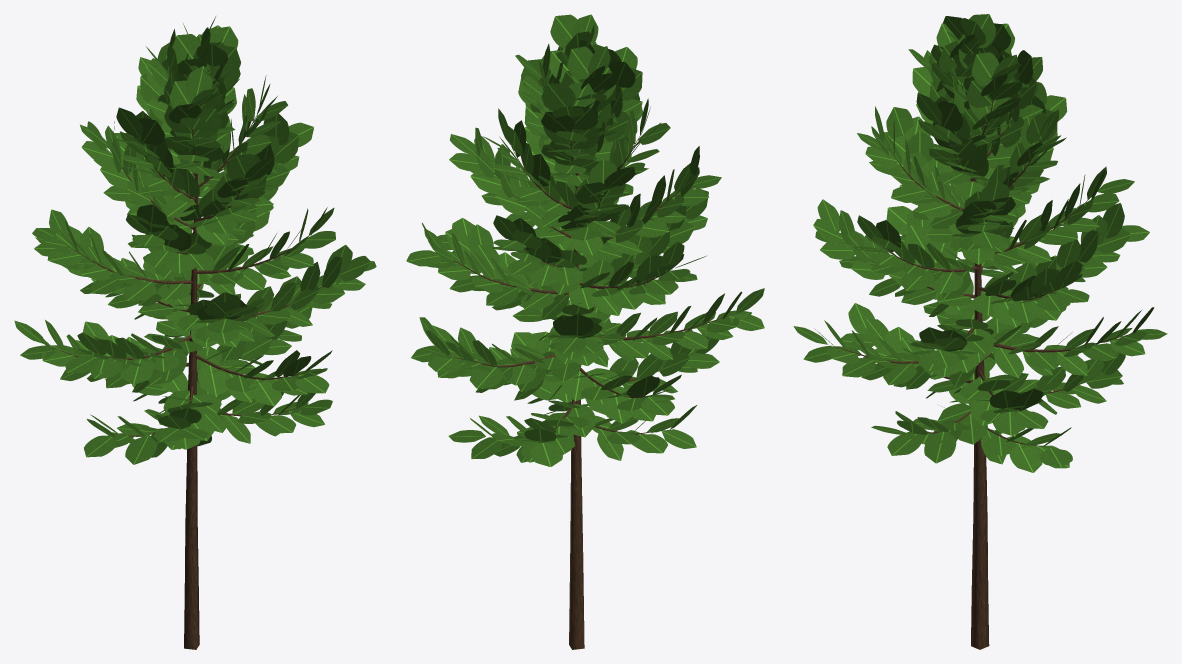
The model's file is alamo.glb.
3 views of the same model, side by side, from view 1: azimuth 30°, elevation 25°; view 2: azimuth 150°, elevation 25°; view 3: azimuth 270°, elevation 25° (orthographic).
Parts seen in each view (by area): view 1: leaves, tree; view 2: leaves, tree; view 3: leaves, tree.
Part boxes in pixels (bbox=[...]): leaves: bbox=[14, 16, 376, 464]; tree: bbox=[52, 68, 321, 649]; leaves: bbox=[406, 14, 764, 466]; tree: bbox=[448, 81, 732, 649]; leaves: bbox=[793, 14, 1167, 472]; tree: bbox=[828, 100, 1132, 649].
Bounding box in the file's own units: 0.5392 × 1 × 0.5345.
2 materials, 2 textured.
